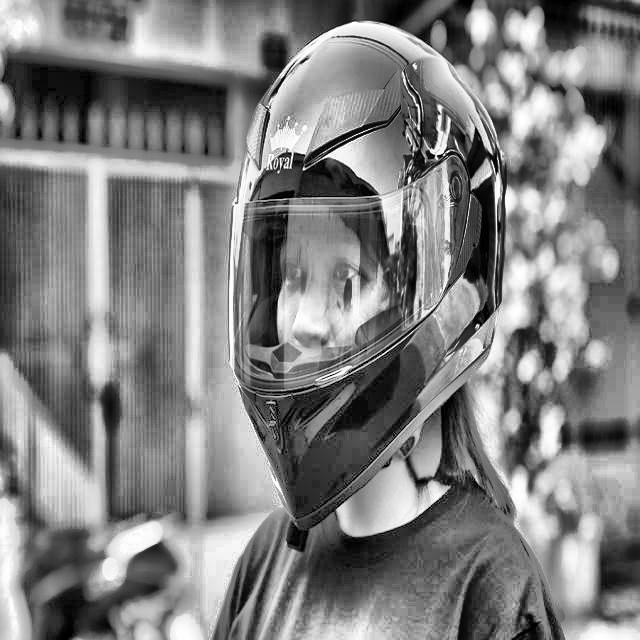Helmet: (222, 11, 512, 545)
